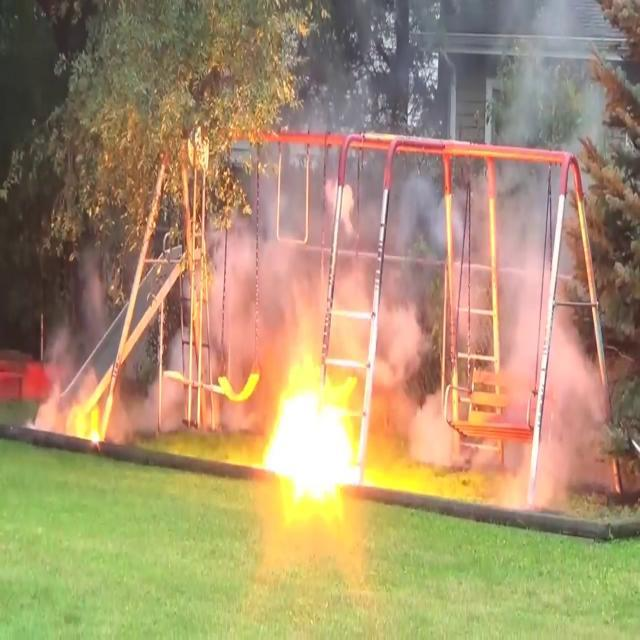Fire: (258, 342, 378, 518), (29, 357, 120, 450)
Smoke: (403, 0, 624, 513), (204, 129, 412, 344)
